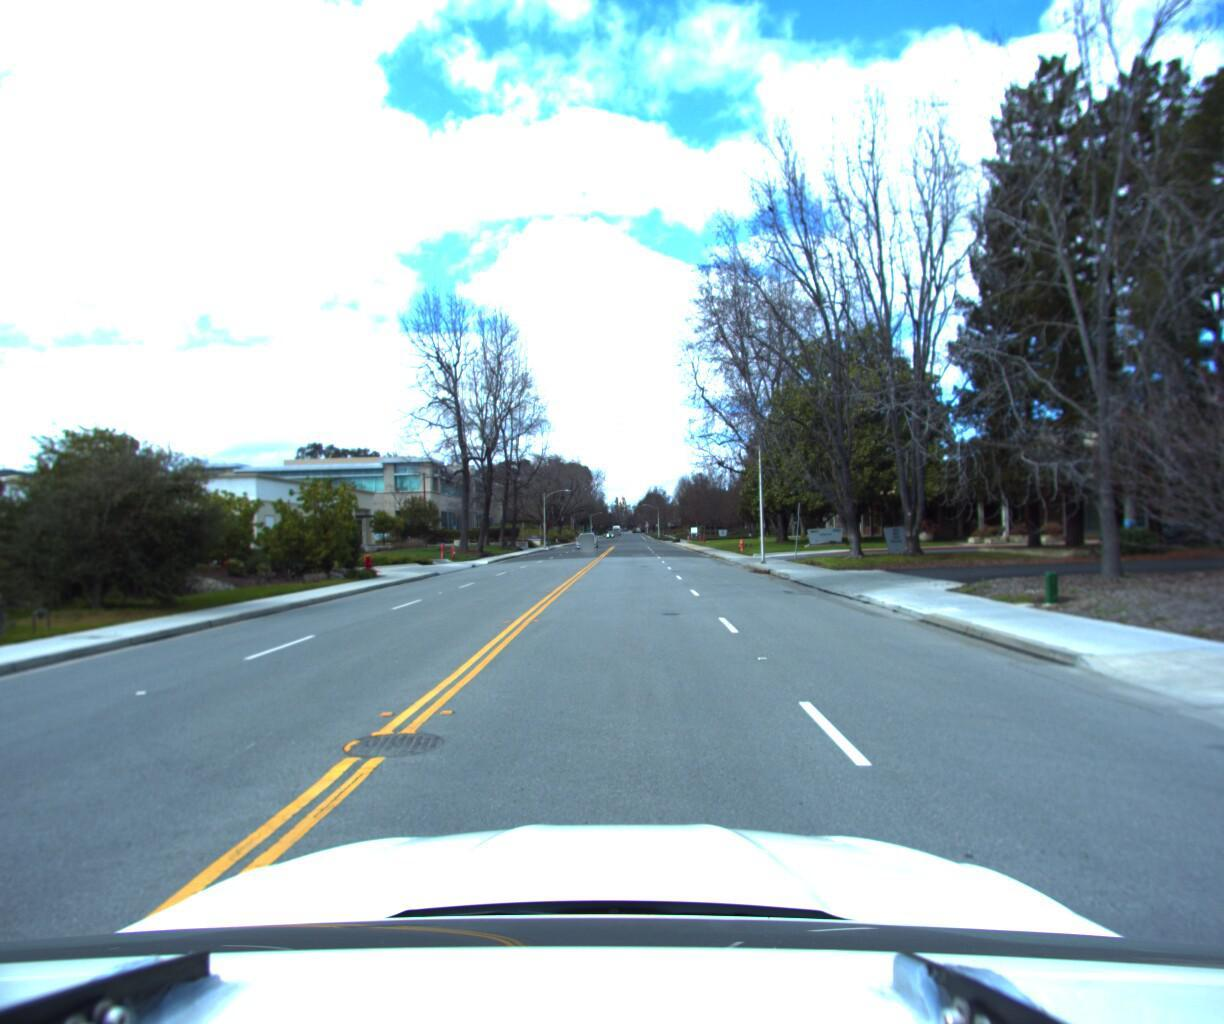car: (576, 533, 599, 551)
